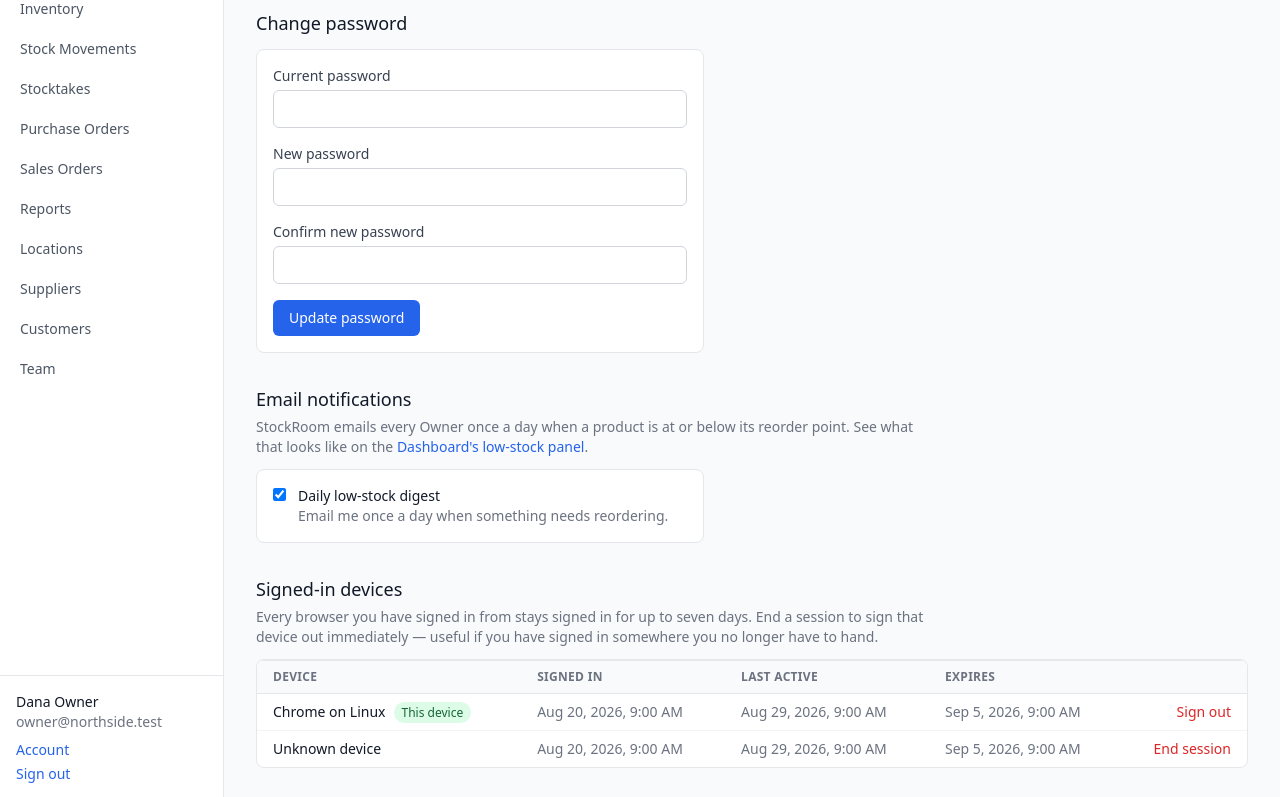
Scenario: AccountPage sessions › surfaces a rejected end-session rather than failing silently
The width and height of the screenshot is (1280, 797).
(page scrolled)
Check: the text "Unknown device" is shown, box [257,730,521,767]
Click the button "End session": [1192, 749] box [1154,739,1231,759]
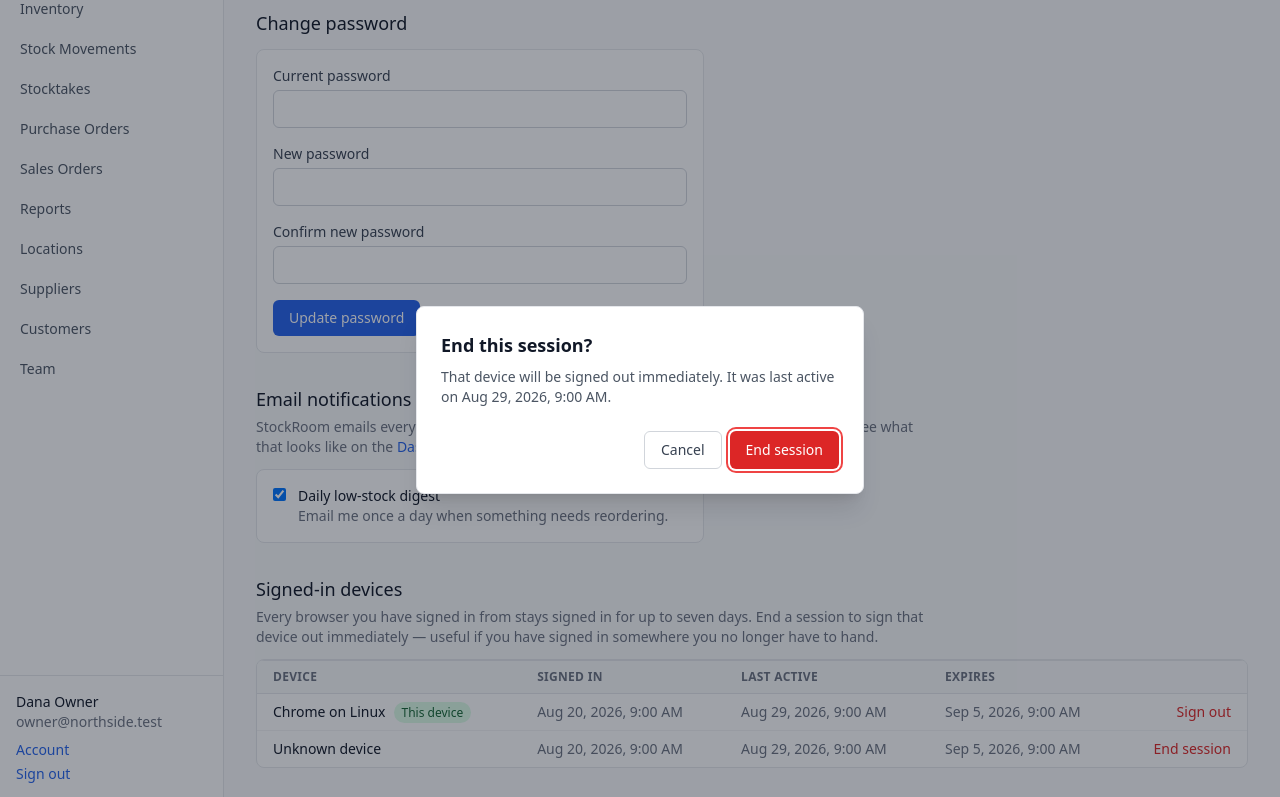
Click the button "End session": [784, 450] box [730,431,839,469]
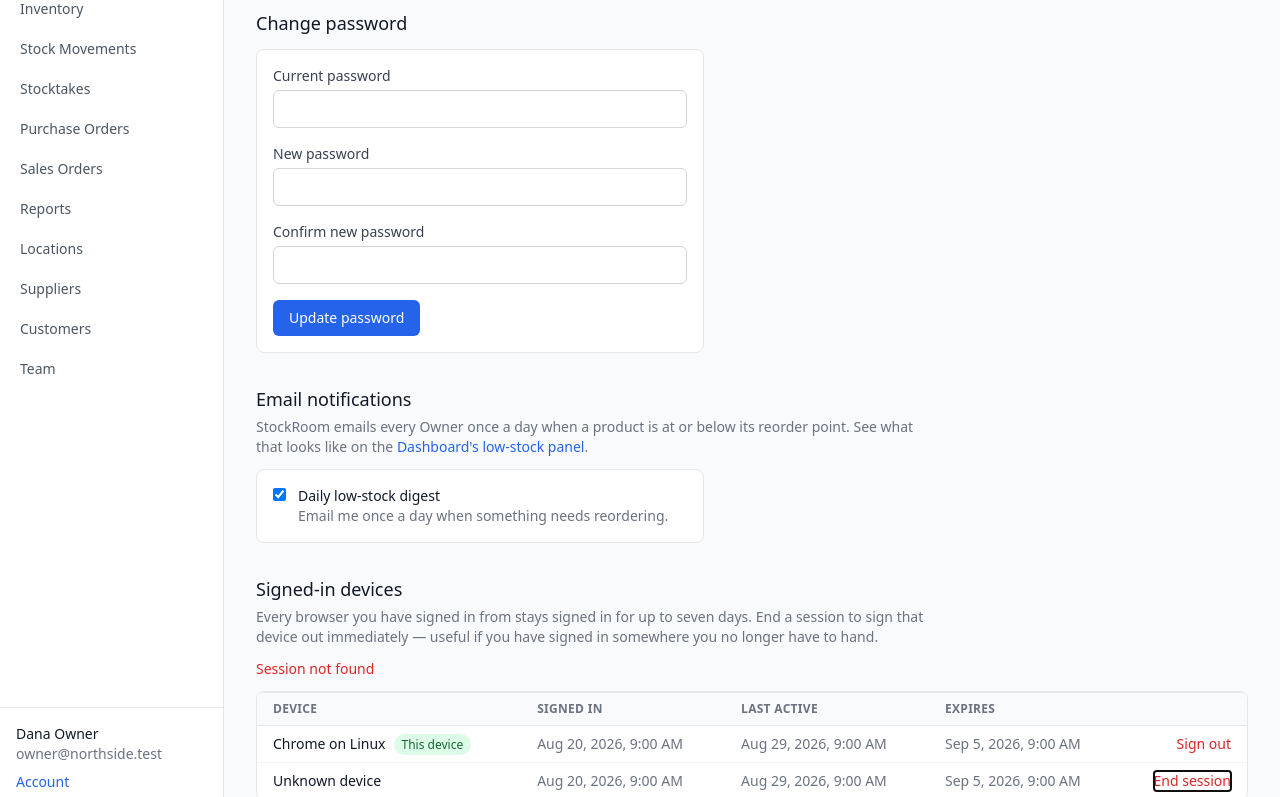
Check: the text "Session not found" is shown, box [256,659,374,678]
